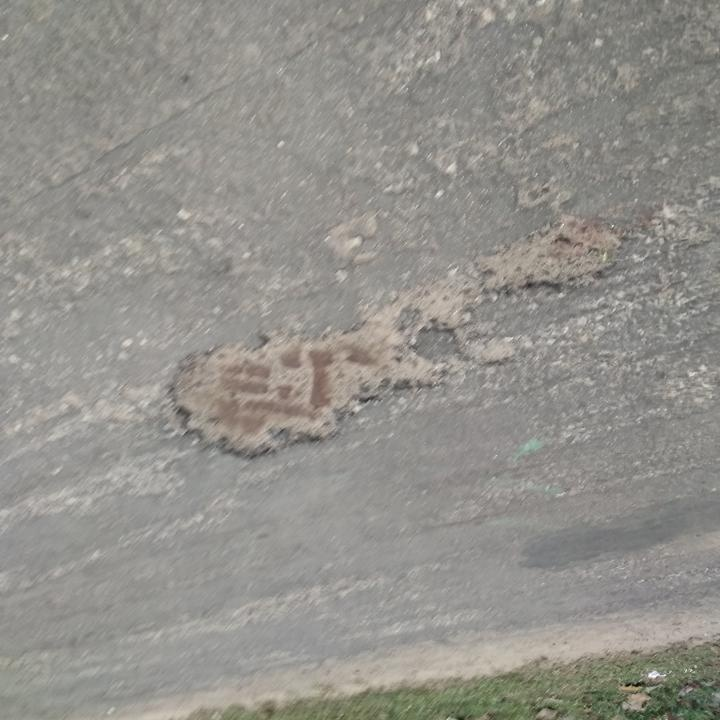pothole: (160, 276, 472, 467), (470, 214, 629, 302)
